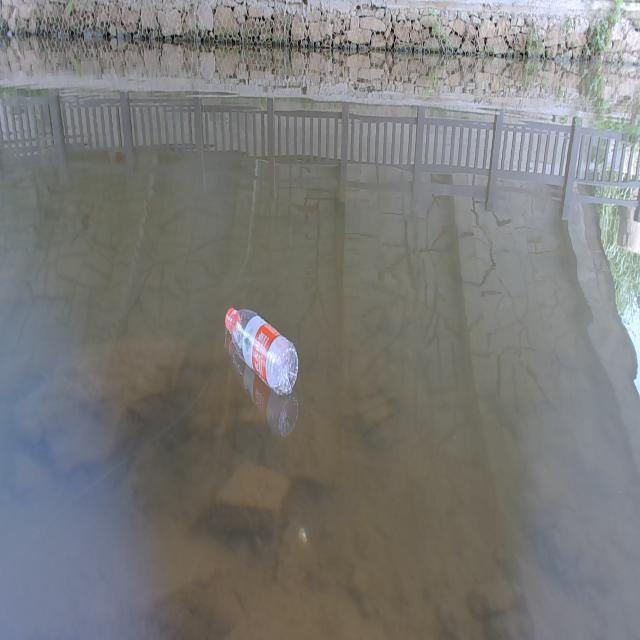bottle: (212, 276, 308, 418)
